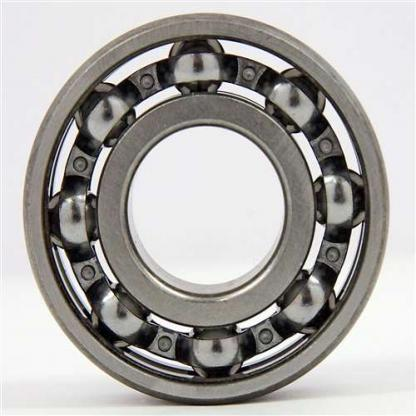FOD: (8, 5, 404, 410)
